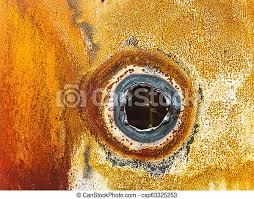rust: (1, 2, 254, 189)
